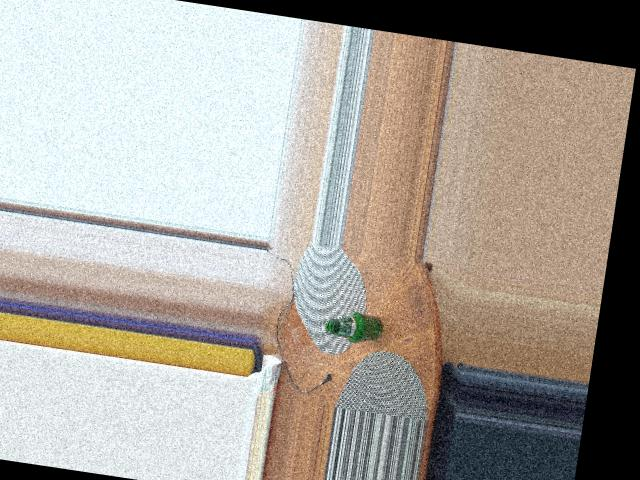beer: (323, 307, 384, 345)
